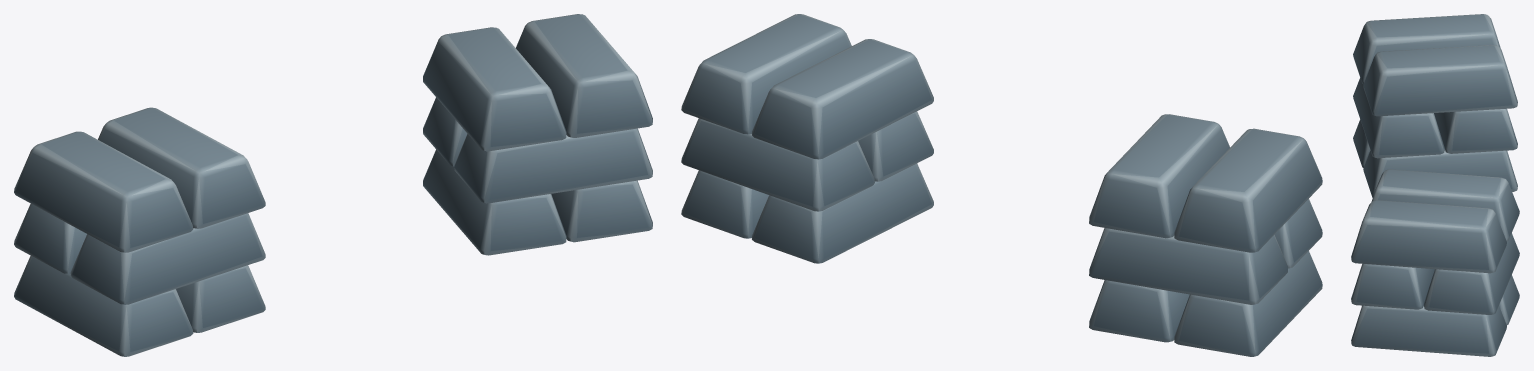
File: eisenlager.glb
The picture shows the model from 3 angles, left to right: view 1: azimuth 30°, elevation 25°; view 2: azimuth 150°, elevation 25°; view 3: azimuth 270°, elevation 25°; orthographic projection. The views are drawn at different scales.
Visible parts, largest first — view 1: Iron_Bars_Stack_Small (×2); view 2: Iron_Bars_Stack_Small (×2); view 3: Iron_Bars_Stack_Small (×2).
Part boxes in pixels (x1,y1,x2,y2): Iron_Bars_Stack_Small (×2): (14,14,652,356); Iron_Bars_Stack_Small (×2): (681,14,1322,356); Iron_Bars_Stack_Small (×2): (1351,14,1519,356).
Size of the model in its own units: 2.9 by 0.75 by 0.9146.
1 material, 1 textured.
